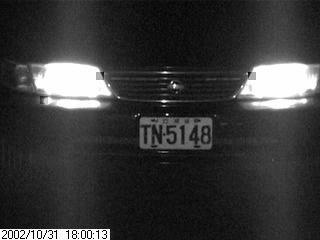plate: (137, 114, 215, 153)
